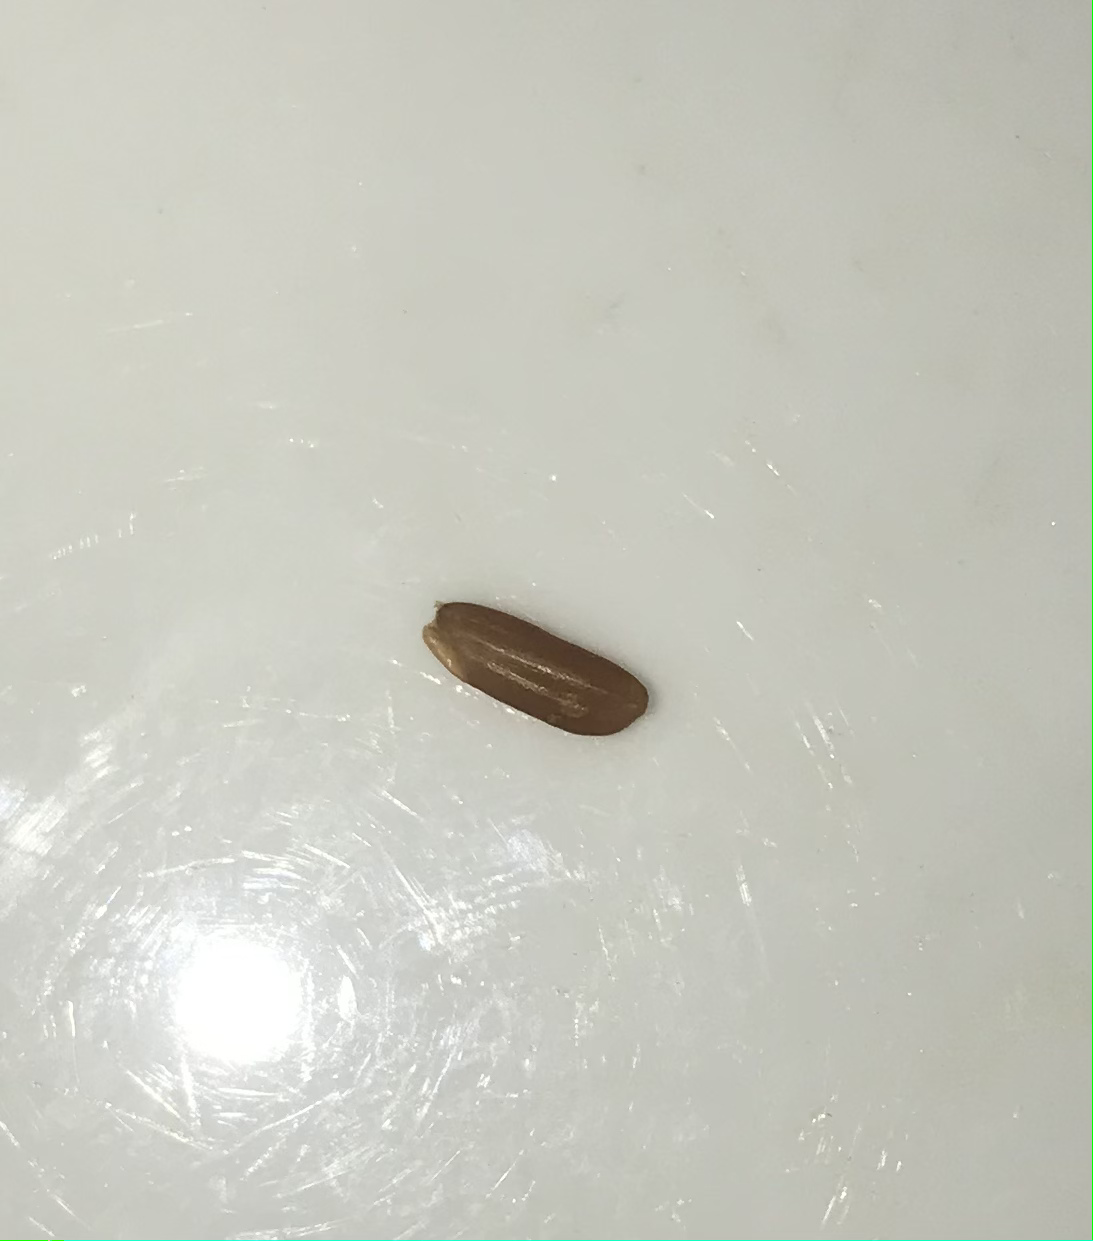Gao Lut Do: (413, 576, 673, 771)
